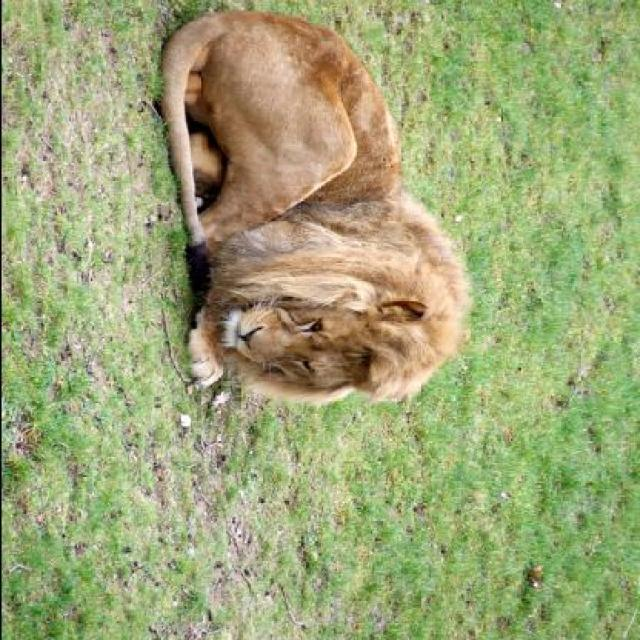Lion: (144, 2, 482, 416)
